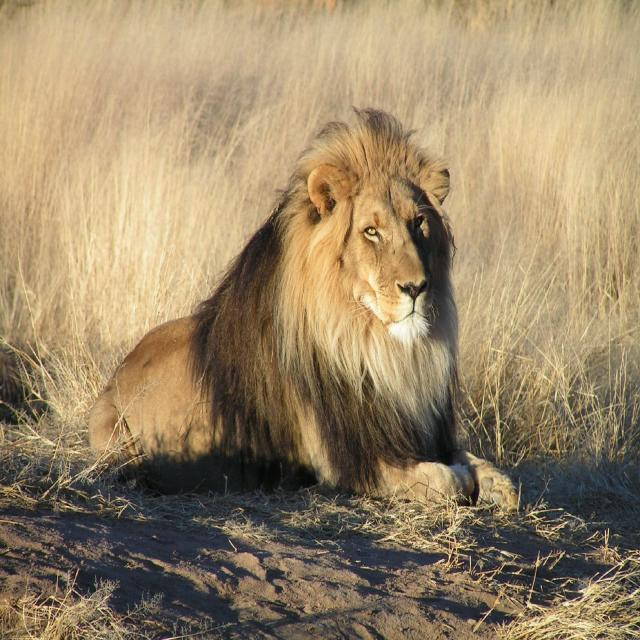lion: (90, 109, 517, 509)
